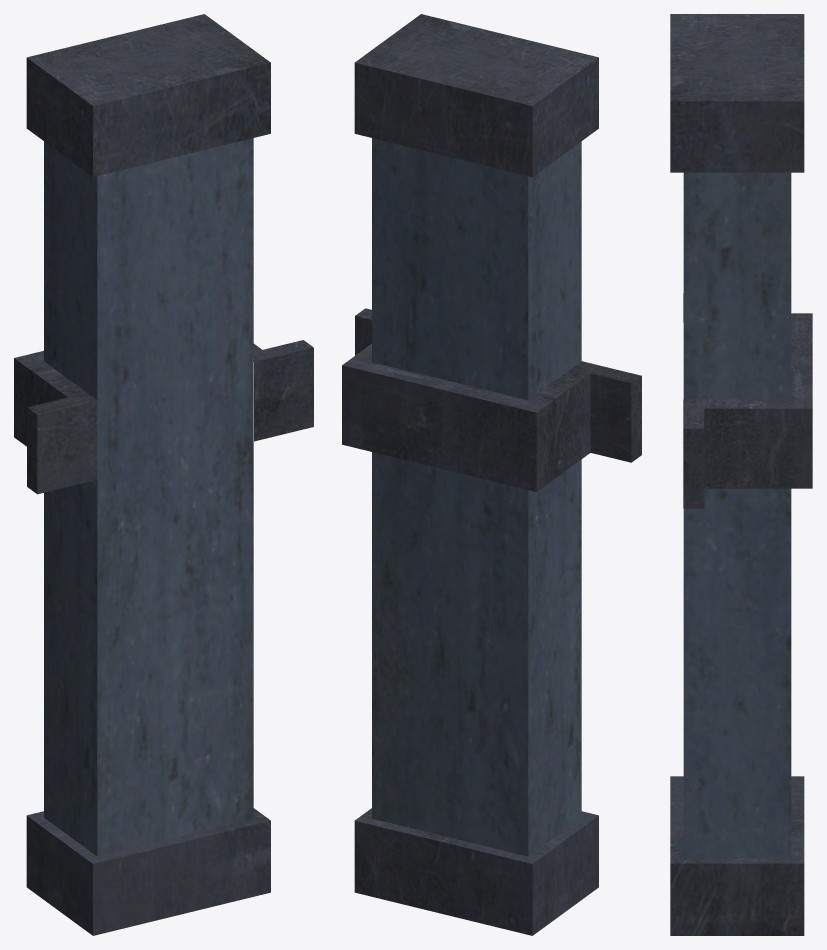
File: Prop_Sg03.glb
3 renders of one model, left to right at view 1: azimuth 30°, elevation 25°; view 2: azimuth 150°, elevation 25°; view 3: azimuth 270°, elevation 25°, orthographic.
Visible parts, largest first — view 1: xiutz_sg03; view 2: xiutz_sg03; view 3: xiutz_sg03.
Boxes of the visible parts, x1,y1,x2,y2 form: xiutz_sg03: (14,14,313,935); xiutz_sg03: (342,14,641,935); xiutz_sg03: (670,14,812,935).
Size of the model in its own units: 0.4603 by 1.32 by 0.2037.
Materials: 1 (1 with a texture image).
